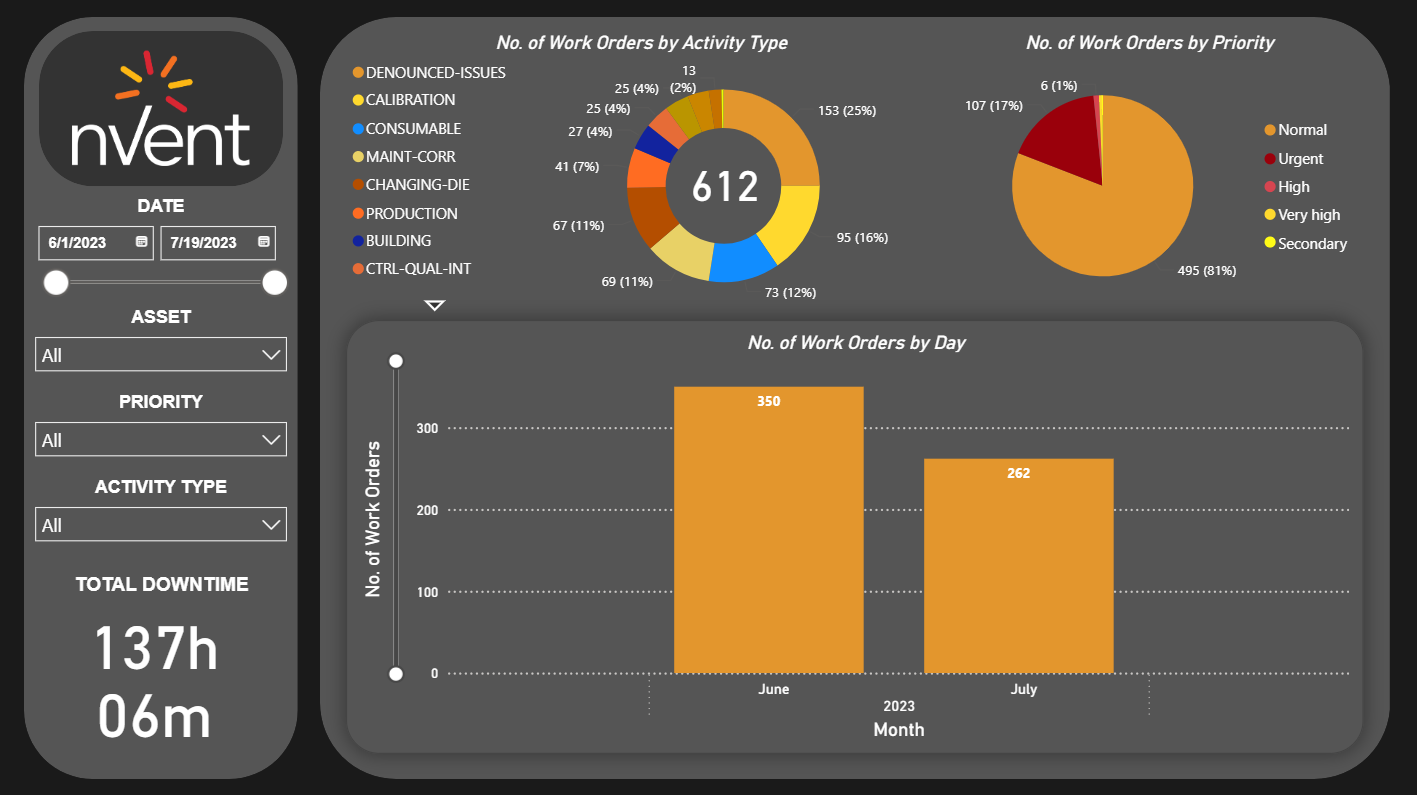

The page's visual inventory and layout, read from the dashboard file:
{"tool":"powerbi","page":{"name":"nVent_Data_Project","canvas":[1280,720],"ordinal":0},"visuals":[{"type":"shape","title":"1st Background","box":[0,0,1280,720],"z":0},{"type":"shape","title":"2nd Background - Filter","box":[23.3,16.7,246.7,686.7],"z":1000},{"type":"shape","title":"2nd Background - Charts","box":[290,16.7,964.4,686.7],"z":2000},{"type":"shape","title":"3nd Background - Logo","box":[36.7,28.9,220,140],"z":3000},{"type":"image","title":"LOGO","box":[57.8,41.1,177.8,114.4],"z":4000},{"type":"slicer","title":"DATE","fields":{"Values":["Work order start date.Work order start date"]},"box":[23.3,177.8,246.7,100],"z":5000},{"type":"slicer","title":"ASSET","fields":{"Values":["nVent_Data.Asset"]},"box":[23.3,277.8,246.7,76.7],"z":6000},{"type":"slicer","title":"PRIORITY","fields":{"Values":["nVent_Data.Priority"]},"box":[23.3,354.4,246.7,76.7],"z":7000},{"type":"slicer","title":"ACTIVITY TYPE","fields":{"Values":["nVent_Data.Activity type Activity type code"]},"box":[23.3,431.1,246.7,76.7],"z":8000},{"type":"card","title":"TOTAL DOWNTIME","fields":{"Values":["DownTime.DownTime_TotalTime"]},"box":[33.3,507.8,226.7,184.4],"z":8500},{"type":"clusteredColumnChart","title":"No. of Work Orders by Day","fields":{"Category":["Work order start date.Work order start date.Variation.Date Hierarchy.Year","Work order start date.Work order start date.Variation.Date Hierarchy.Month","Work order start date.Work order start date.Variation.Date Hierarchy.Day"],"Y":["Count(nVent_Data.Work order code)"]},"box":[313.3,288.9,916.7,391.1],"z":9000},{"type":"donutChart","title":"No. of Work Orders by Activity Type","fields":{"Y":["Count(nVent_Data.Work order code)"],"Category":["nVent_Data.Activity type Activity type code"]},"box":[313.3,28.9,532.2,260],"z":10000},{"type":"pieChart","title":"No. of Work Orders by Priority","fields":{"Y":["Count(nVent_Data.Work order code)"],"Category":["nVent_Data.Priority"]},"box":[845.6,28.9,384.4,260],"z":10500},{"type":"card","title":"No. of Work Orders","fields":{"Values":["Count(nVent_Data.Work order code)"]},"box":[605.4,137.1,99.2,55.4],"z":13000}]}

Visuals, with their boxes in screenshot pixels (x1, y1, x2, y2), scaled from the page's 1280x720 canvas onto the 1417x795 screenshot:
"1st Background" shape: locate(0, 0, 1416, 794)
"2nd Background - Filter" shape: locate(26, 18, 299, 777)
"2nd Background - Charts" shape: locate(321, 18, 1389, 777)
"3nd Background - Logo" shape: locate(41, 32, 284, 186)
"LOGO" image: locate(64, 45, 261, 172)
"DATE" slicer: locate(26, 196, 299, 307)
"ASSET" slicer: locate(26, 307, 299, 391)
"PRIORITY" slicer: locate(26, 391, 299, 476)
"ACTIVITY TYPE" slicer: locate(26, 476, 299, 561)
"TOTAL DOWNTIME" card: locate(37, 561, 288, 764)
"No. of Work Orders by Day" clusteredColumnChart: locate(347, 319, 1362, 751)
"No. of Work Orders by Activity Type" donutChart: locate(347, 32, 936, 319)
"No. of Work Orders by Priority" pieChart: locate(936, 32, 1362, 319)
"No. of Work Orders" card: locate(670, 151, 780, 213)
